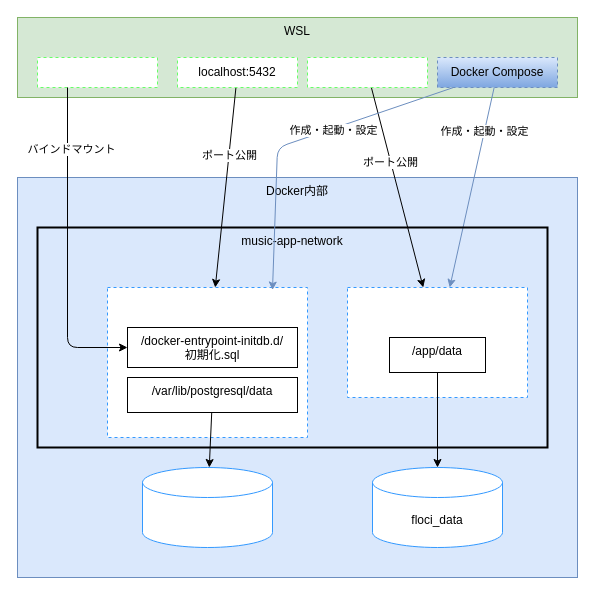
This 595x595 diagram has some shape labels left out. Here are the shapes that lost their labels. From the top down, the box of each, then its label:
(36, 56, 158, 88): ./db/init/初期化.sql
(306, 56, 428, 88): localhost:4566
(106, 286, 308, 438): PostgreSQL Container
(346, 286, 528, 398): Floci Container
(142, 466, 272, 548): postgres_data
